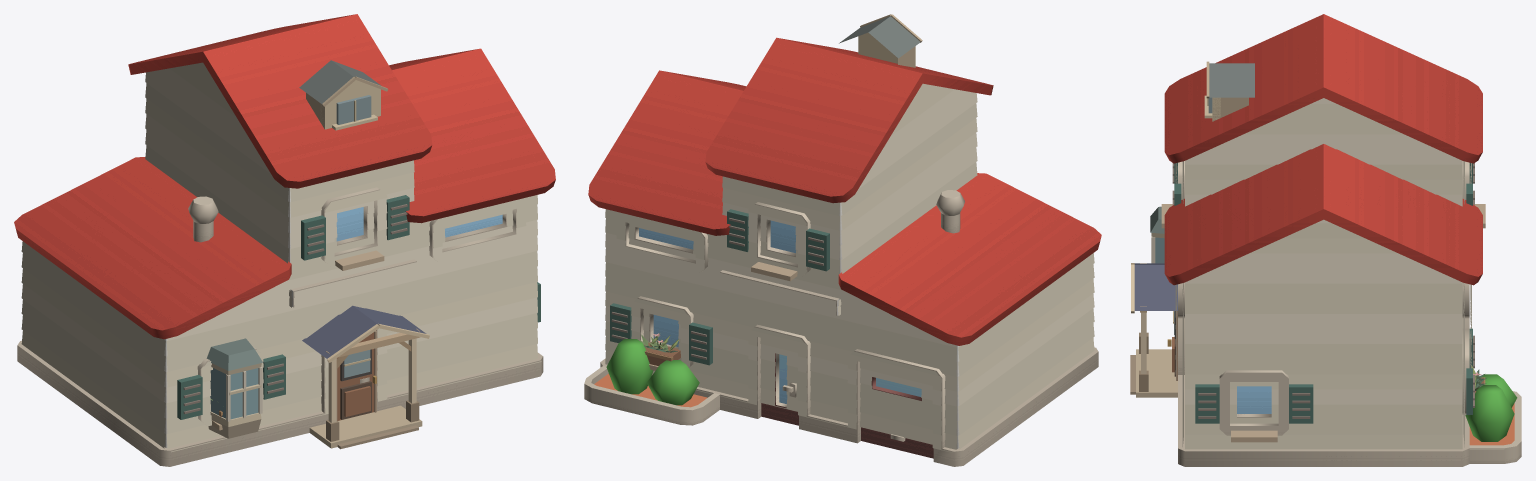
Rendered from house-c-white.glb.
3 views of the same model, side by side, from view 1: azimuth 30°, elevation 25°; view 2: azimuth 150°, elevation 25°; view 3: azimuth 270°, elevation 25° (orthographic). The views are drawn at different scales.
Visible parts, largest first — view 1: Handlaid_roof_entry_porch_and_joinery, building-type-c, Details; view 2: building-type-c, Handlaid_roof_entry_porch_and_joinery, Details; view 3: Handlaid_roof_entry_porch_and_joinery, building-type-c, Details.
Boxes of the visible parts, x1,y1,x2,y2 form: Handlaid_roof_entry_porch_and_joinery: (21,60,541,452); building-type-c: (14,14,555,466); Details: (177,195,540,419); building-type-c: (584,37,1101,466); Handlaid_roof_entry_porch_and_joinery: (605,14,1094,452); Details: (610,209,829,365); Handlaid_roof_entry_porch_and_joinery: (1130,61,1504,449); building-type-c: (1164,14,1521,466); Details: (1174,162,1472,423).
Bounding box in the file's own units: 1.3 × 1.03 × 1.13.
42 materials, 1 textured.
